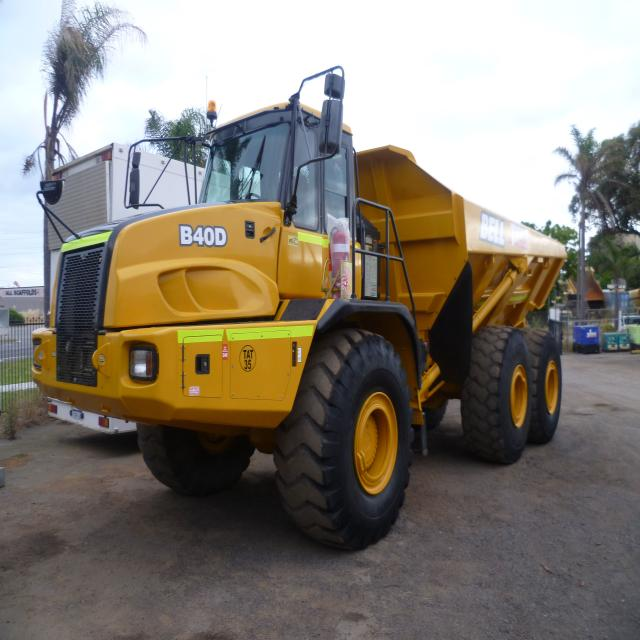dump_truck: (27, 83, 580, 546)
